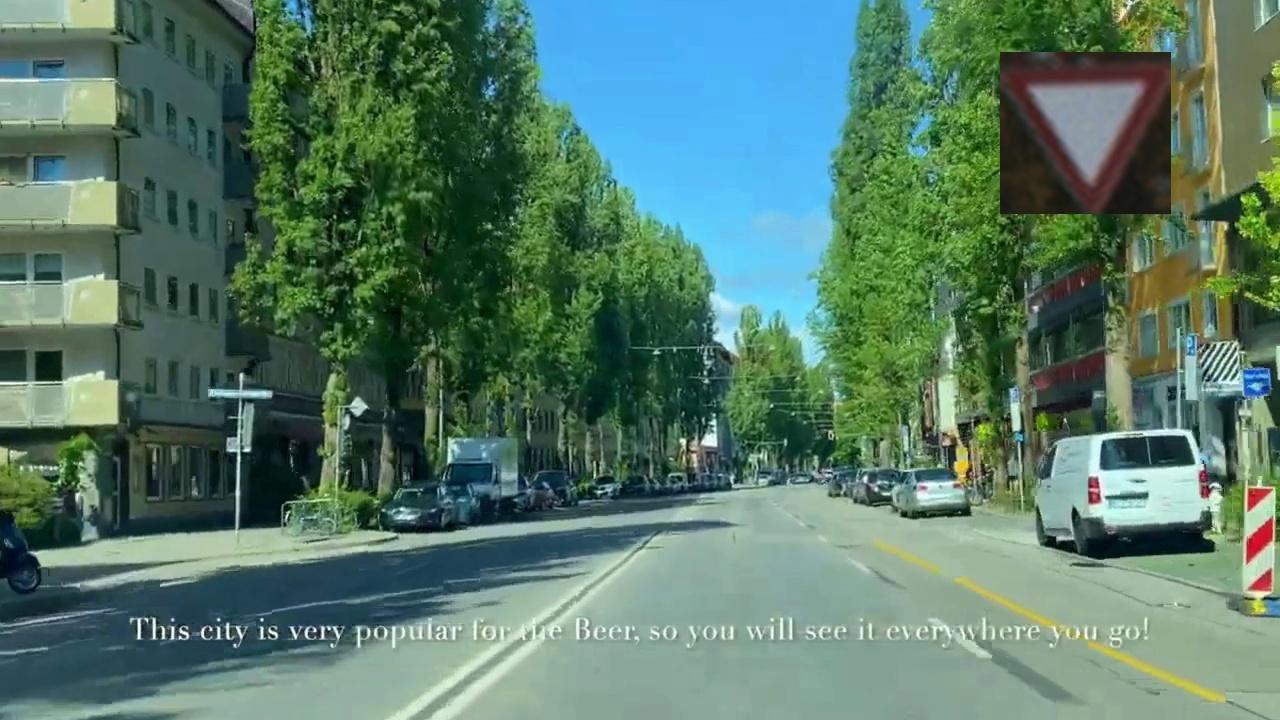Yield: (1000, 52, 1171, 214)
